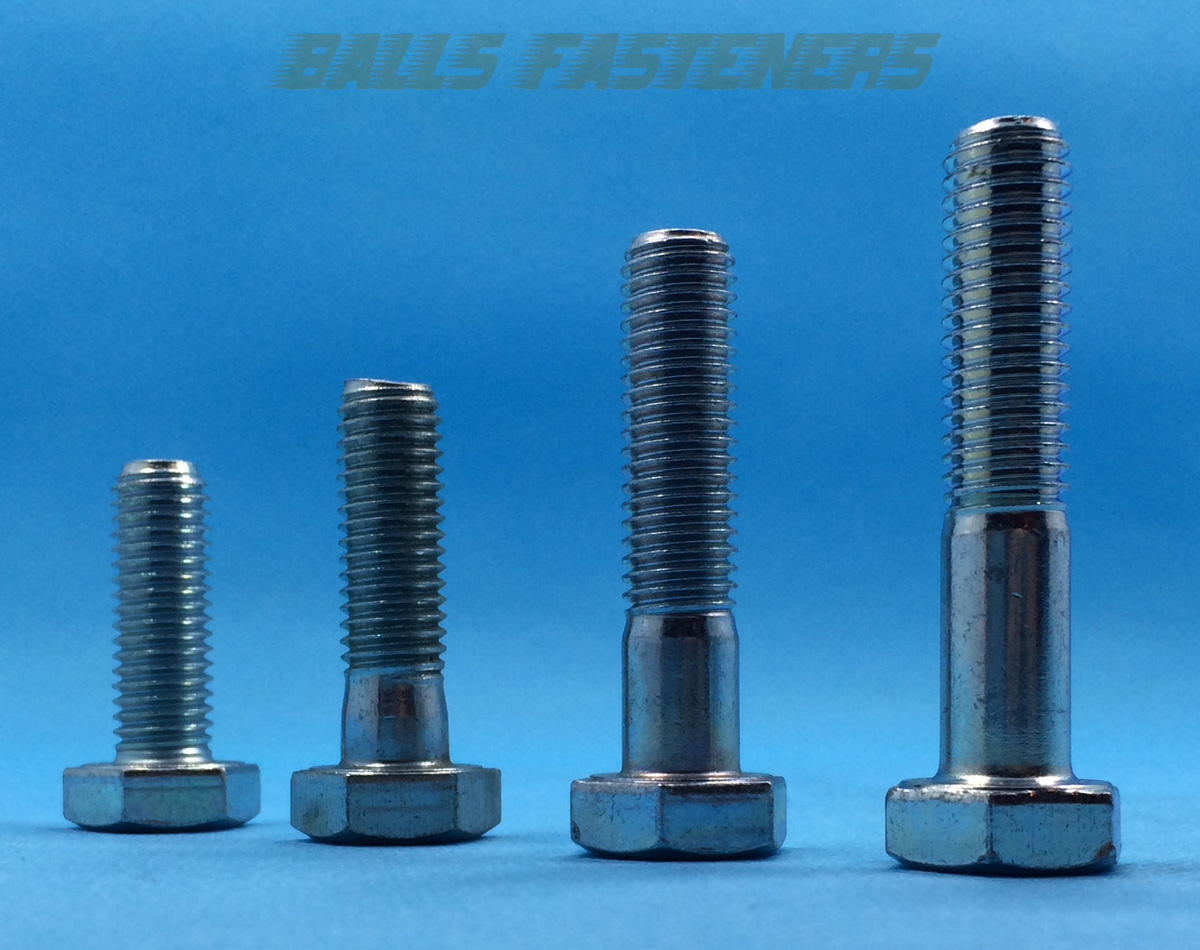screw: (886, 117, 1124, 873), (567, 229, 791, 861), (288, 380, 505, 842), (60, 455, 267, 839)
